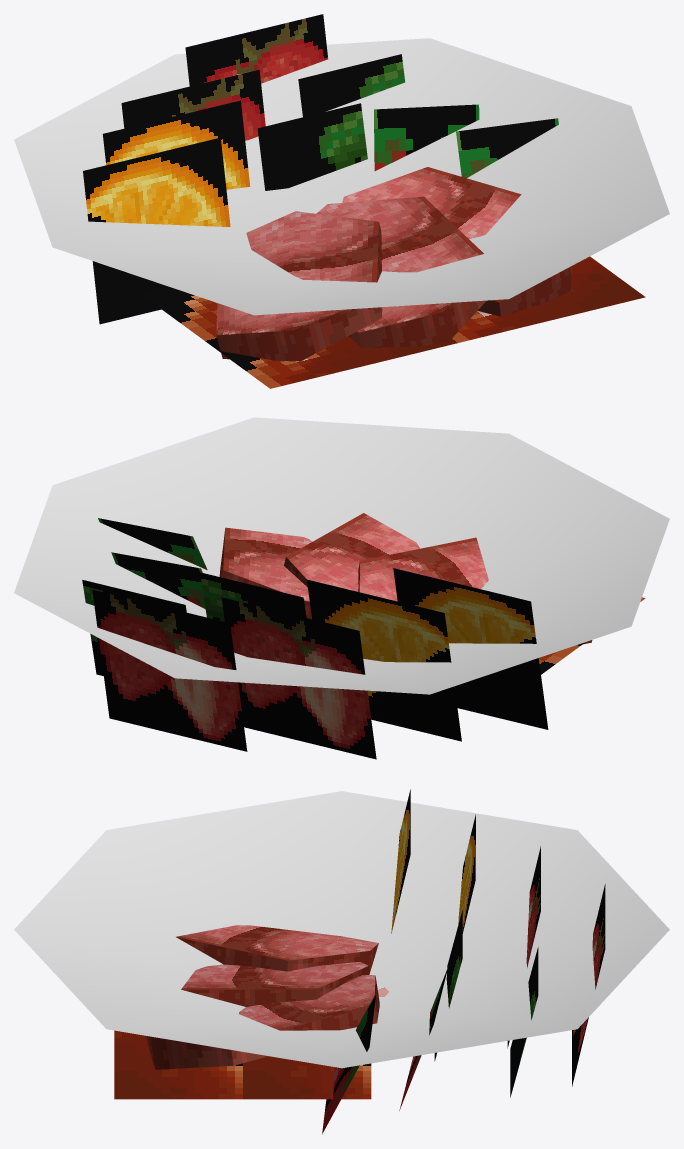
The picture shows the model from 3 angles, top to bottom: view 1: azimuth 30°, elevation 25°; view 2: azimuth 150°, elevation 25°; view 3: azimuth 270°, elevation 25°; orthographic projection.
Visible parts, largest first — view 1: 5569u_roast00_ss; view 2: 5569u_roast00_ss; view 3: 5569u_roast00_ss.
Boxes of the visible parts, x1,y1,x2,y2 form: 5569u_roast00_ss: (14, 14, 669, 388); 5569u_roast00_ss: (14, 417, 669, 759); 5569u_roast00_ss: (14, 789, 669, 1134).
Bounding box in the file's own units: 0.8838 × 0.2178 × 0.8838.
6 materials, 6 textured.
